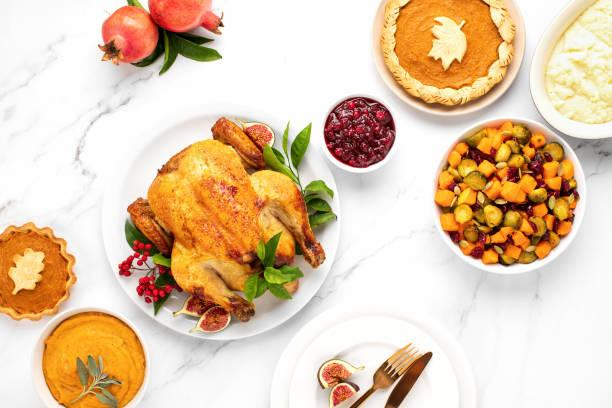Braised Crucian Carp: (104, 111, 338, 340), (432, 117, 592, 276), (371, 0, 530, 113), (31, 306, 149, 406)
